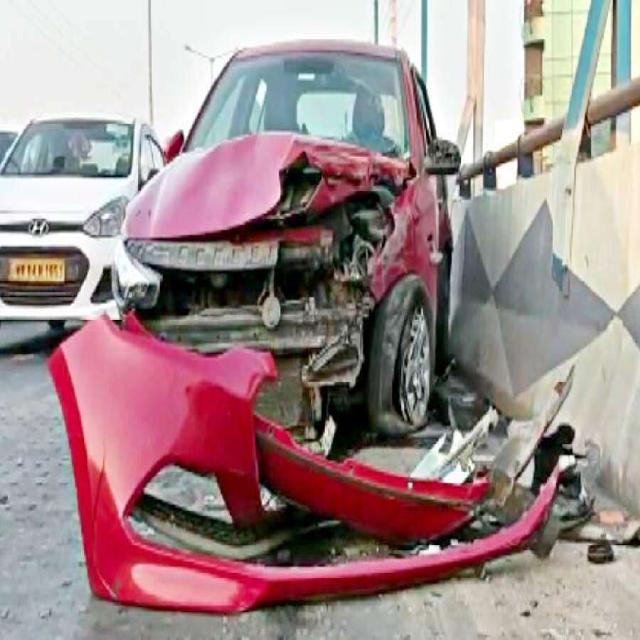accident: (114, 42, 459, 434)
car: (0, 116, 164, 329)
